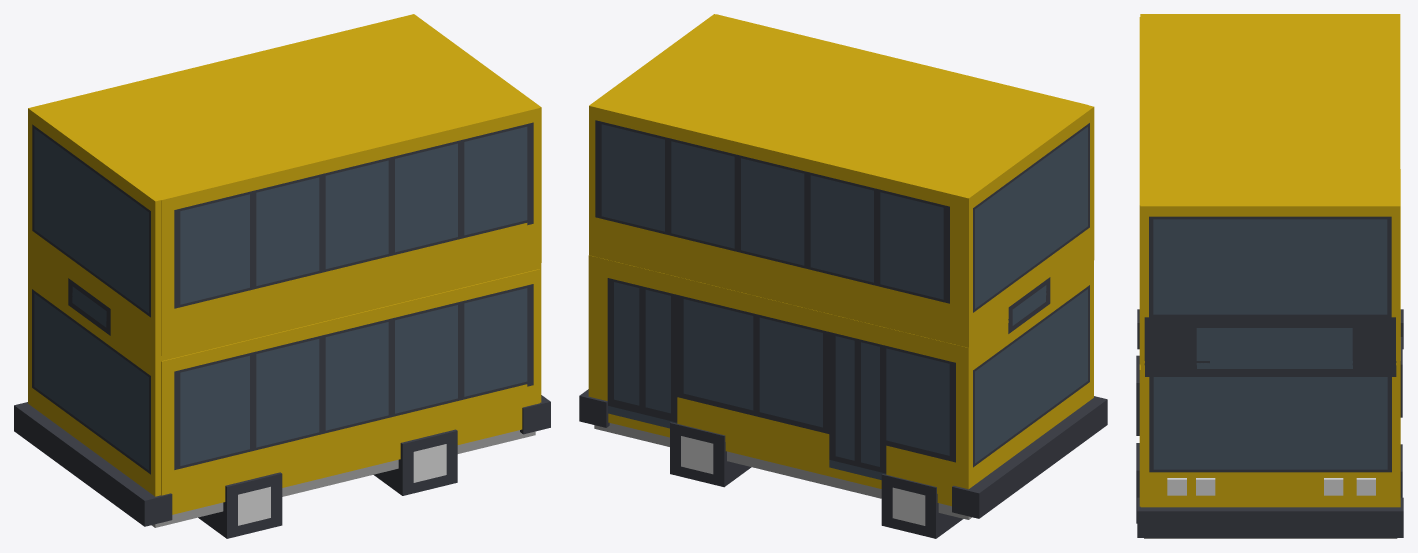
File: busyllow.fbx
The picture shows the model from 3 angles, left to right: view 1: azimuth 30°, elevation 25°; view 2: azimuth 150°, elevation 25°; view 3: azimuth 270°, elevation 25°; orthographic projection. The views are drawn at different scales.
Parts seen in each view (by area): view 1: bus; view 2: bus; view 3: bus.
Part boxes in pixels (left/top/right/bottom): bus: left=14, top=14, right=550, bottom=538; bus: left=579, top=14, right=1107, bottom=538; bus: left=1136, top=14, right=1403, bottom=538.
Size of the model in its own units: 6.63 by 5.5 by 3.71.
